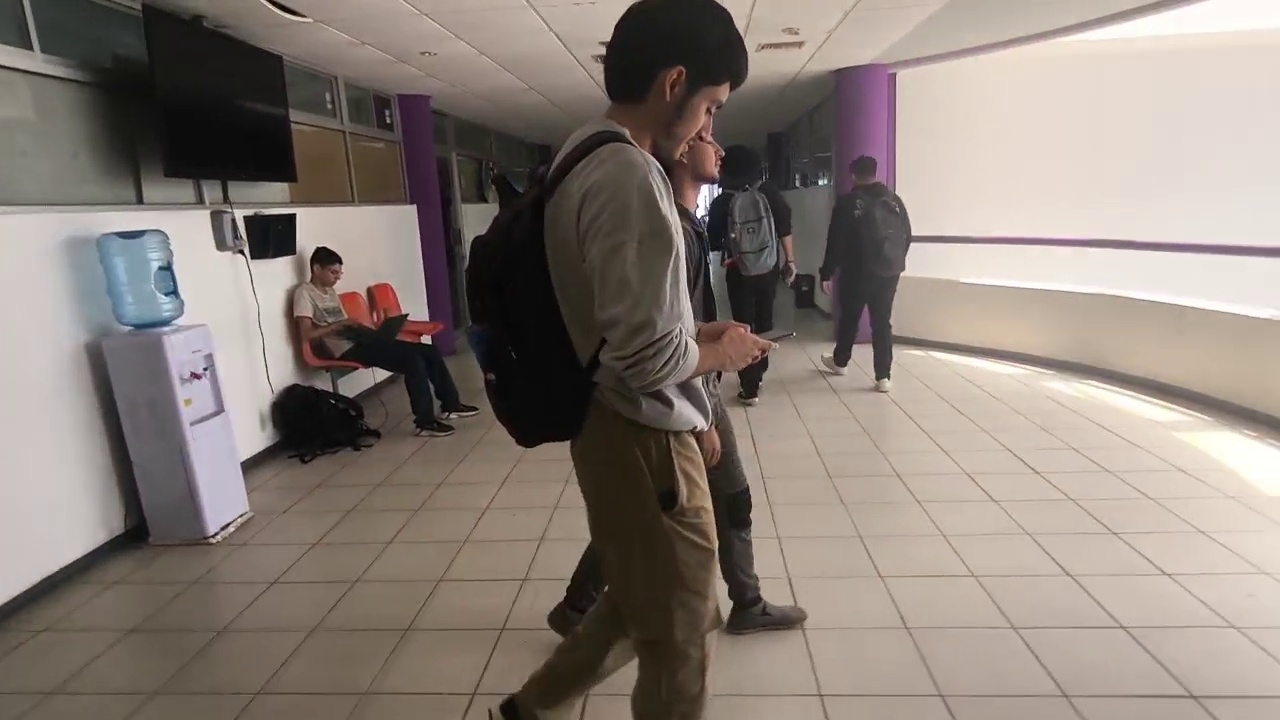mixto2: (745, 322, 803, 351)
